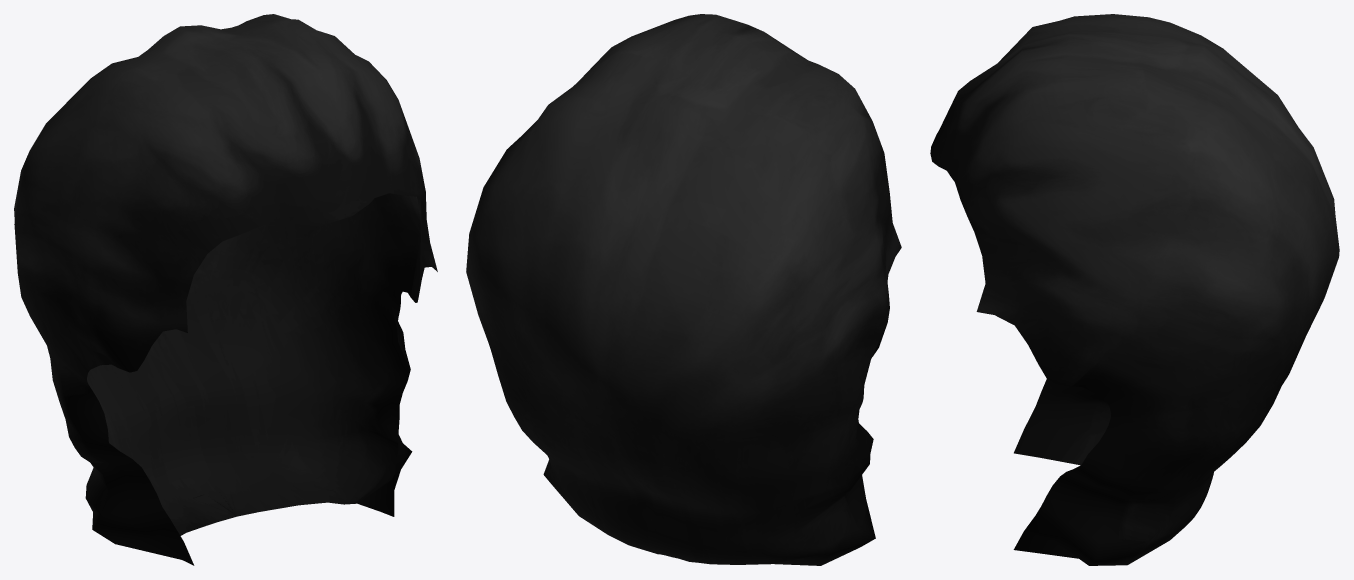
Rendered from pushed back long.fbx.
3 renders of one model, left to right at view 1: azimuth 30°, elevation 25°; view 2: azimuth 150°, elevation 25°; view 3: azimuth 270°, elevation 25°, orthographic. The views are drawn at different scales.
Parts seen in each view (by area): view 1: pushed back long; view 2: pushed back long; view 3: pushed back long.
Part boxes in pixels (x1,y1,x2,y2): pushed back long: [14, 14, 437, 565]; pushed back long: [466, 14, 901, 565]; pushed back long: [930, 14, 1339, 565].
Bounding box in the file's own units: 19259 × 25720 × 19968.
Materials: 1 (1 with a texture image).
